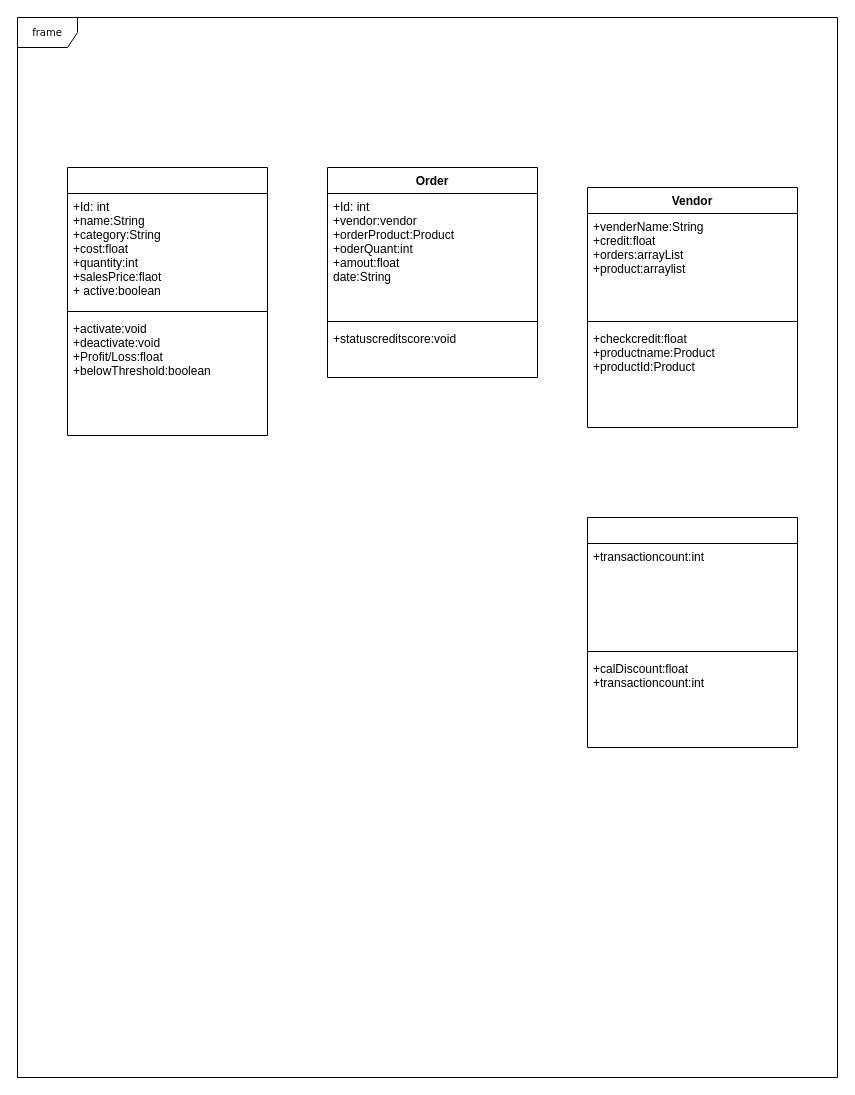
Some shapes in this 855 by 1095 pixel diagram are drawn without their labels. The shapes that lost their labels are listed below. From the top down, each one's box as (x1, y1, x2, y2) in pixels, then its label:
(66, 166, 268, 436): Product
(586, 516, 798, 748): Customer
